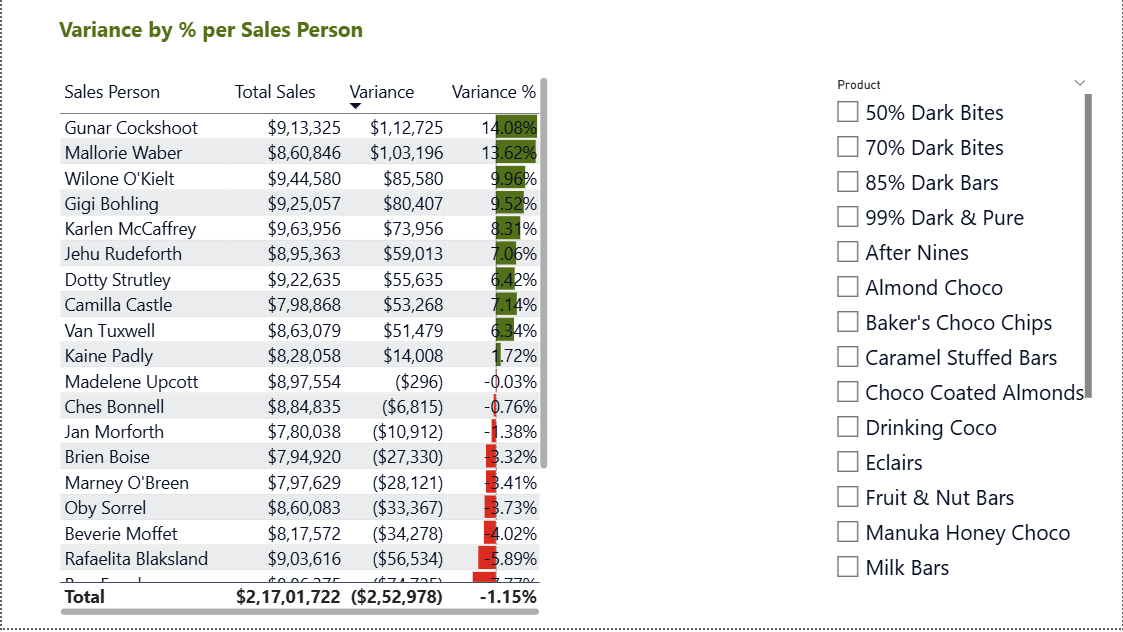

The page's visual inventory and layout, read from the dashboard file:
{"tool":"powerbi","page":{"name":"Variance by Table %","canvas":[1280,720],"ordinal":2},"visuals":[{"type":"tableEx","fields":{"Values":["DSalesPersons.Sales Person","actuals.Total Sales","actuals.Variance","actuals.Variance %"]},"box":[59.9,85.6,568.6,624.9],"z":0},{"type":"textbox","box":[59.9,14.7,568.6,58.7],"z":1000},{"type":"slicer","fields":{"Values":["actuals.Product"]},"box":[941.6,85.6,309.4,582.1],"z":2000}]}

Visuals, with their boxes in screenshot pixels (x1, y1, x2, y2), scaled from the page's 1280x720 canvas onto the 1123x632 screenshot:
tableEx - DSalesPersons.Sales Person x actuals.Total Sales: [53,75,551,624]
textbox: [53,13,551,64]
slicer - actuals.Product: [826,75,1098,586]
